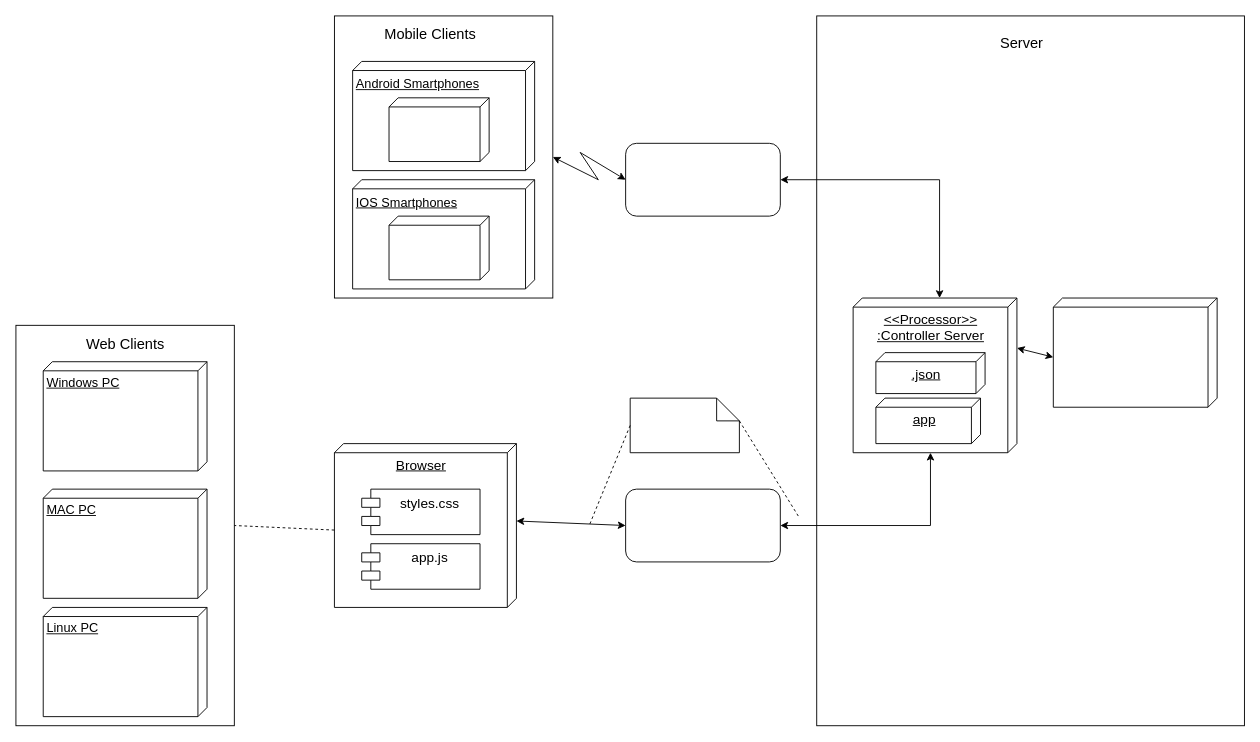
The diagram is 1260 pixels wide and 742 high, and some of its shapes have lost their labels. The centre of each missing label's shape, as x and y in pixels:
<<Processor>> :Data Base Server: the point at 1134,352
<<интернет>>: the point at 702,525
<<Мобильный провайдер>>: the point at 702,179
app.apk: the point at 438,129
app.swt: the point at 438,247
HTTPS Protocol: the point at 684,425
